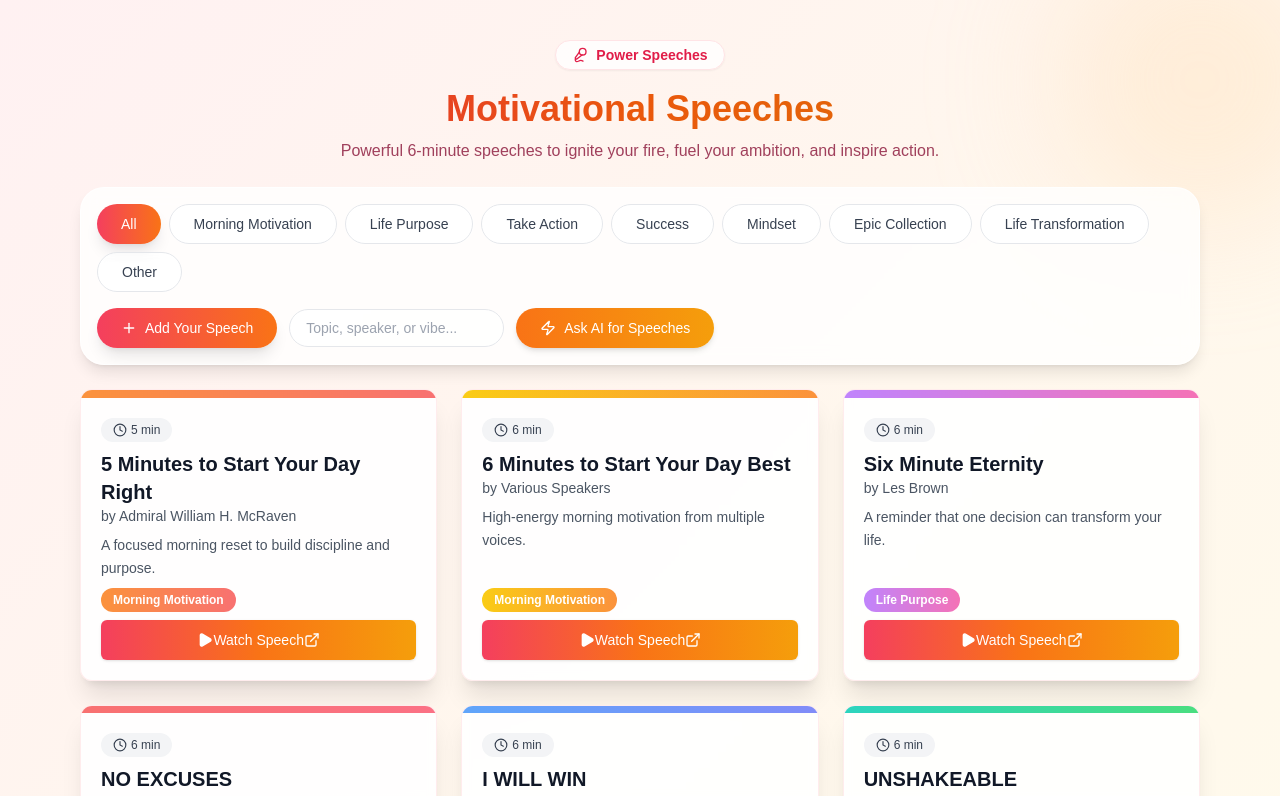
Scenario: AISpeechesPage › fetches AI suggestions and displays them
Type "Les Brown" into the field with placeholder "Topic, speaker, or vibe..." at (397, 328), box top-left (289, 309), bottom-right (504, 347)
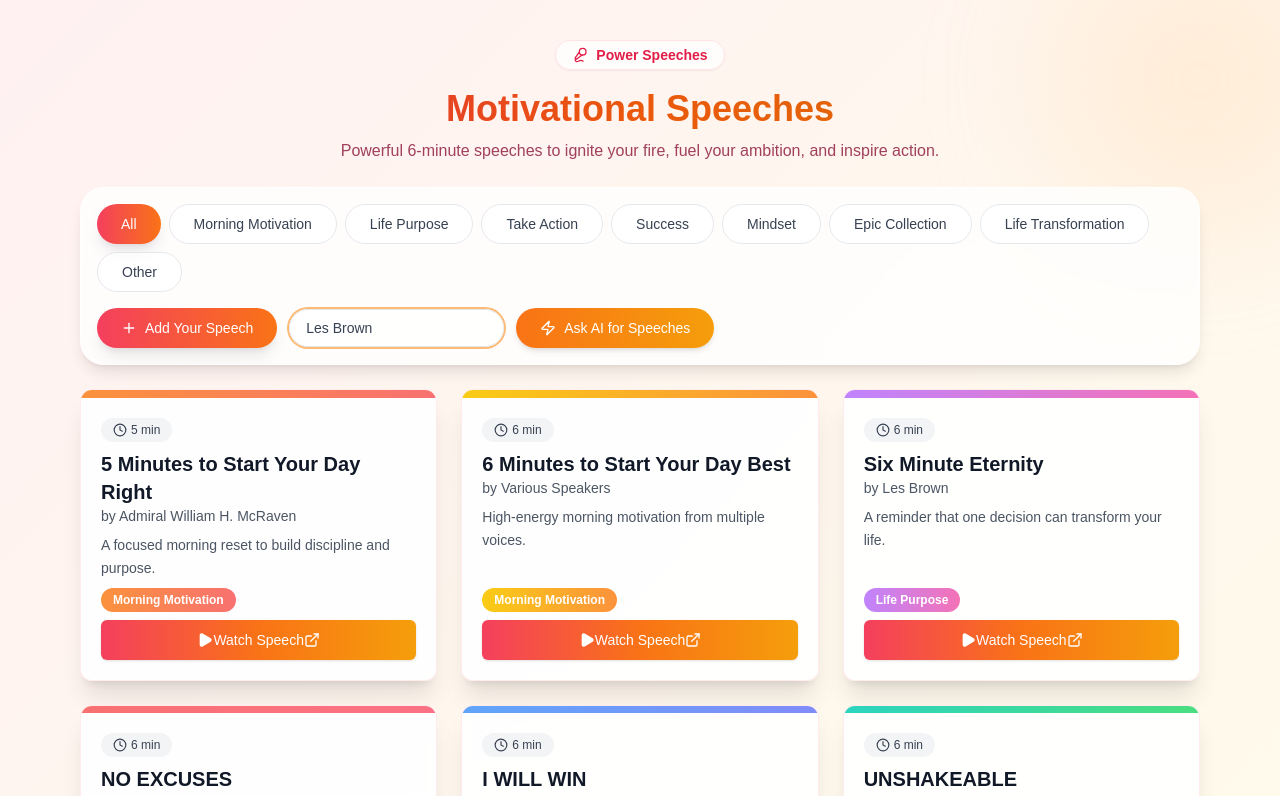
Click the button "Ask AI for Speeches" at (615, 328), box top-left (516, 308), bottom-right (714, 348)
(page scrolled)
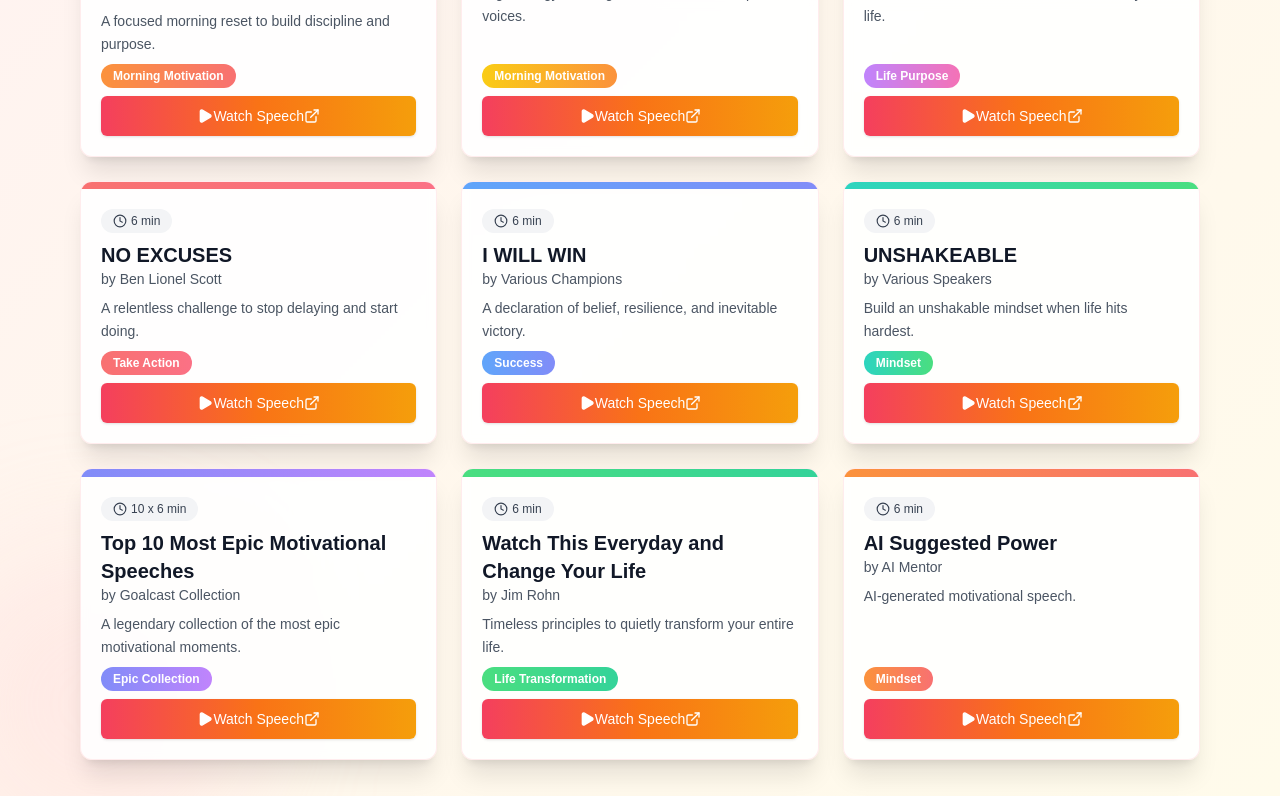
Now the heading "AI Suggested Power" is shown, box top-left (864, 529), bottom-right (1057, 557)
